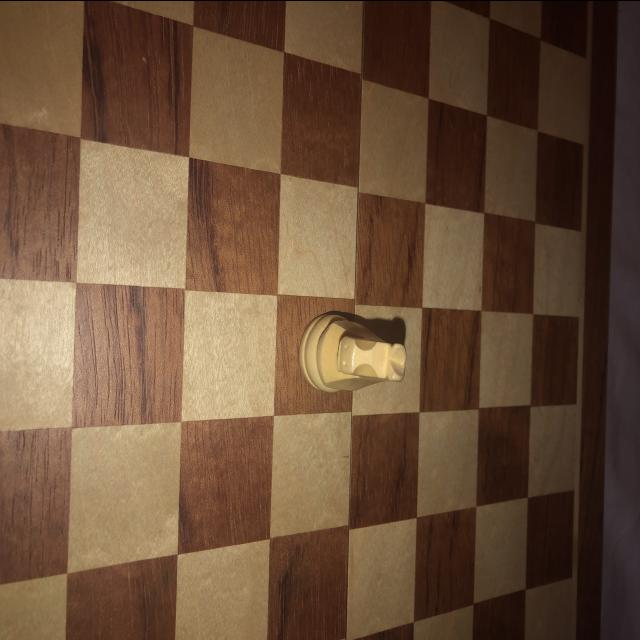white_knight: (294, 308, 410, 396)
